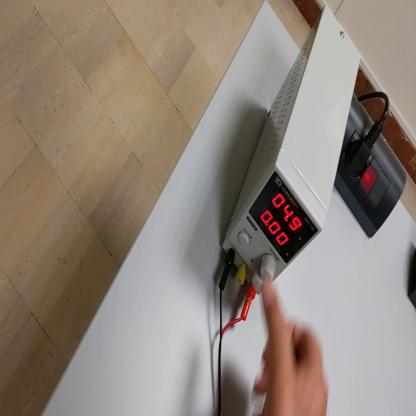hand: (257, 280, 333, 415)
power supply: (223, 4, 363, 296)
socket: (337, 100, 413, 240), (406, 247, 416, 311)
